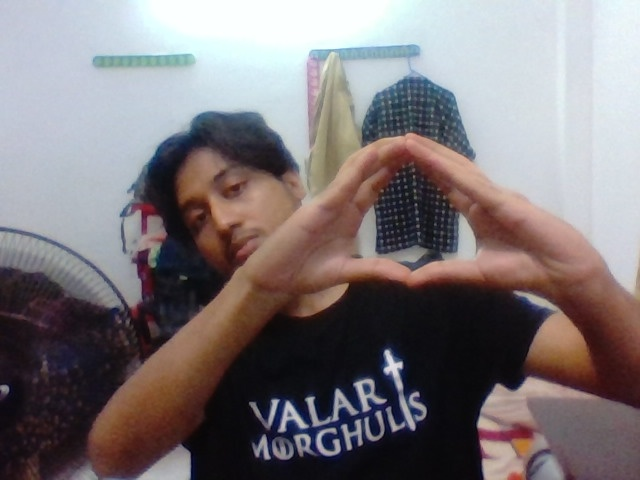O: (294, 124, 539, 311)
